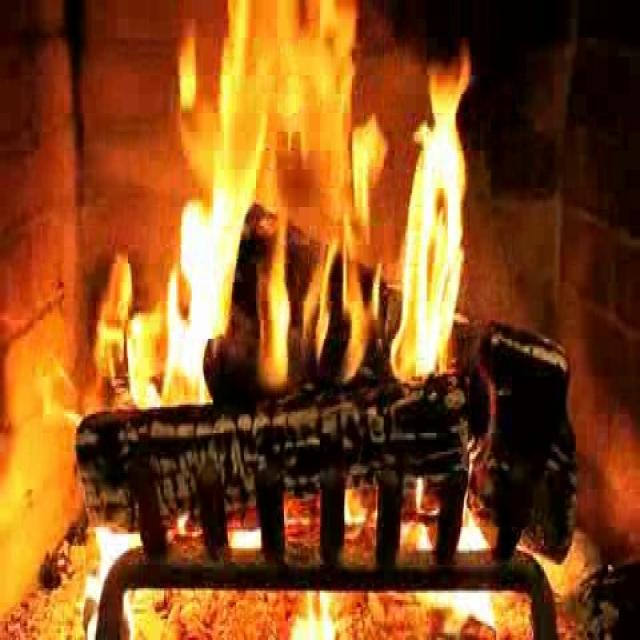fire: (145, 7, 476, 432)
